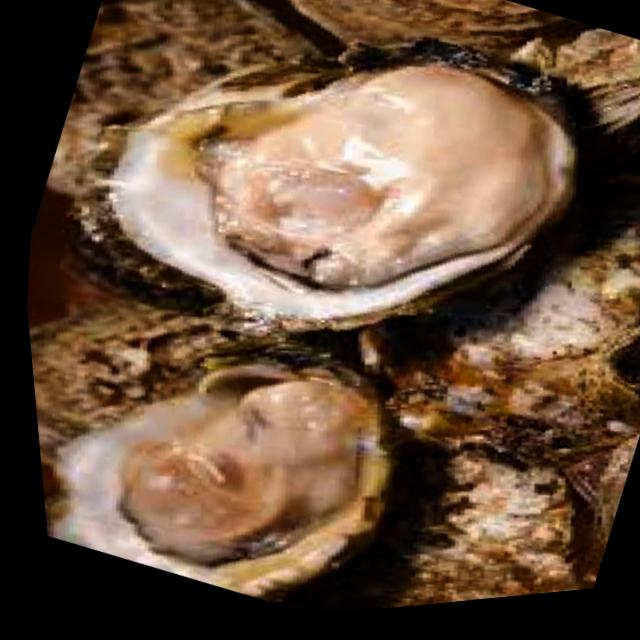Oyster-Closed: (327, 0, 640, 188), (292, 0, 566, 60)
Oyster-Indeterminate: (22, 213, 407, 562), (354, 185, 640, 449), (293, 435, 605, 610), (70, 0, 346, 125)
Oyster-Open: (110, 65, 575, 329), (52, 365, 389, 597)
